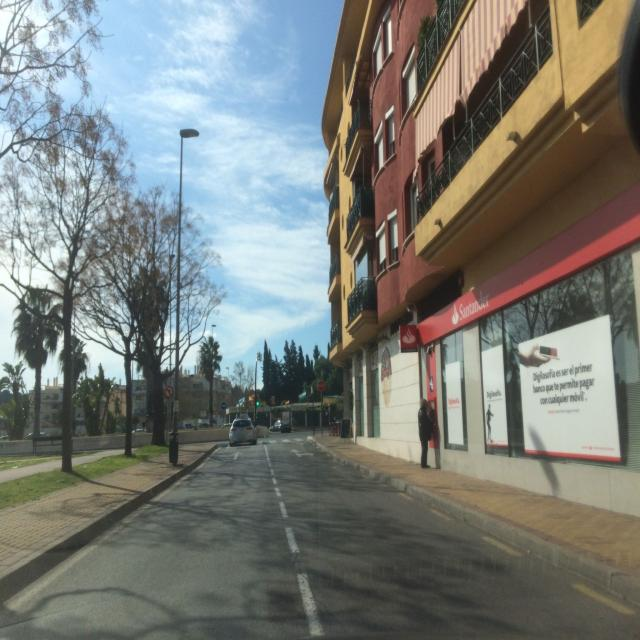car: (228, 418, 258, 446)
